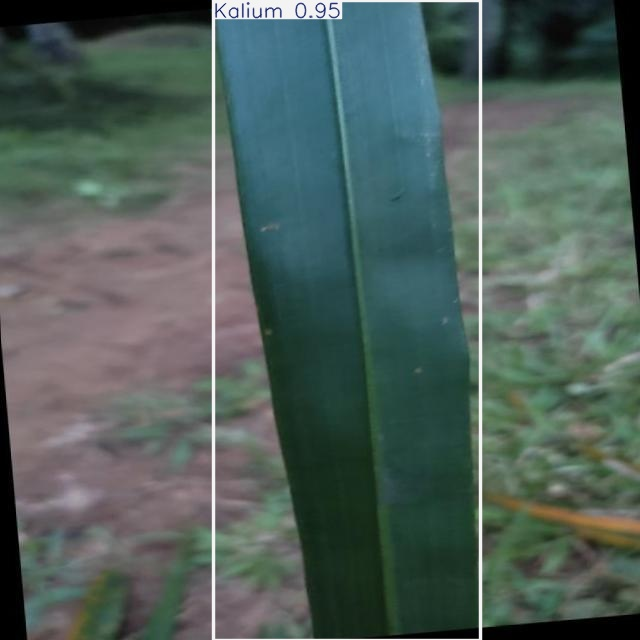Kalium: (213, 0, 481, 640)
